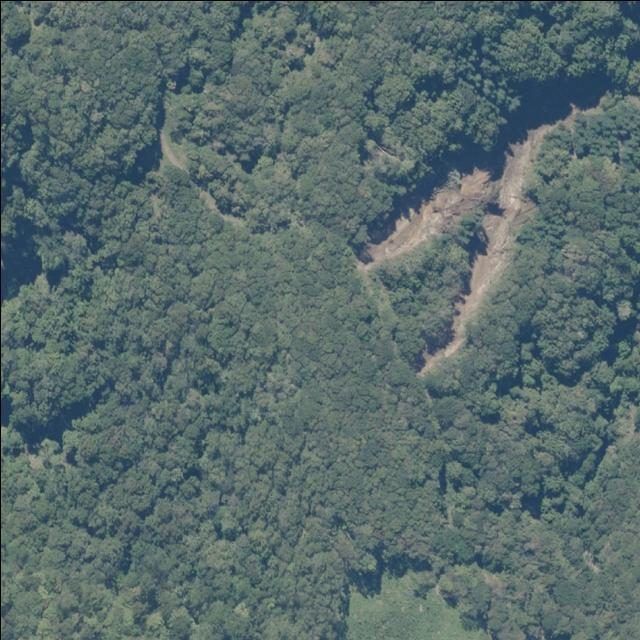landslide: (356, 123, 556, 375)
